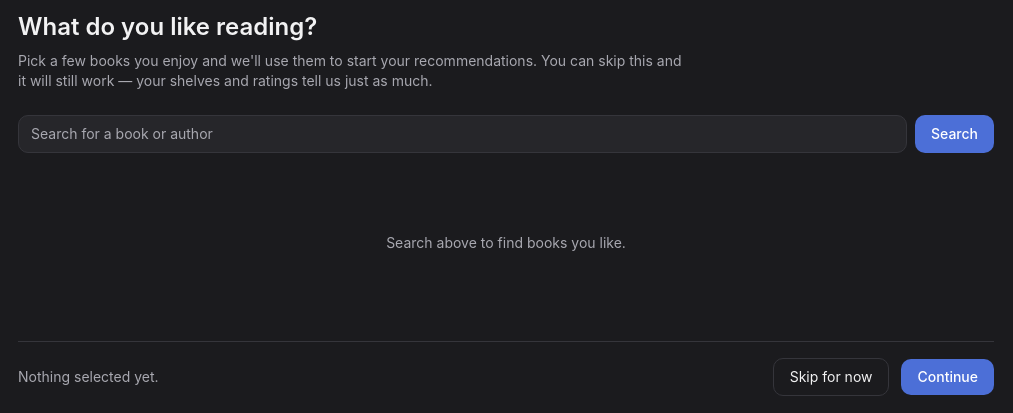
OnboardingPage › reports an empty result set
In the search field named "Search for books or authors": (462, 134) [18,115,907,153], type "nothingmatchesthis"
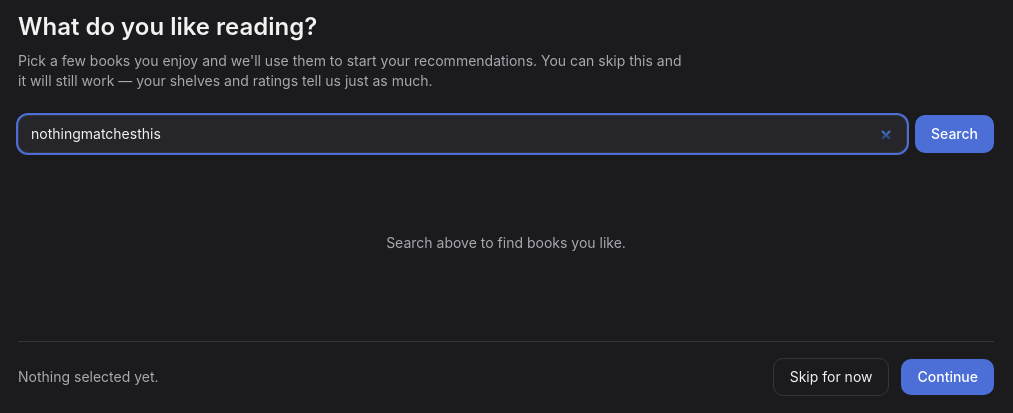
Click the button "Search": (954, 134) [915,115,994,153]
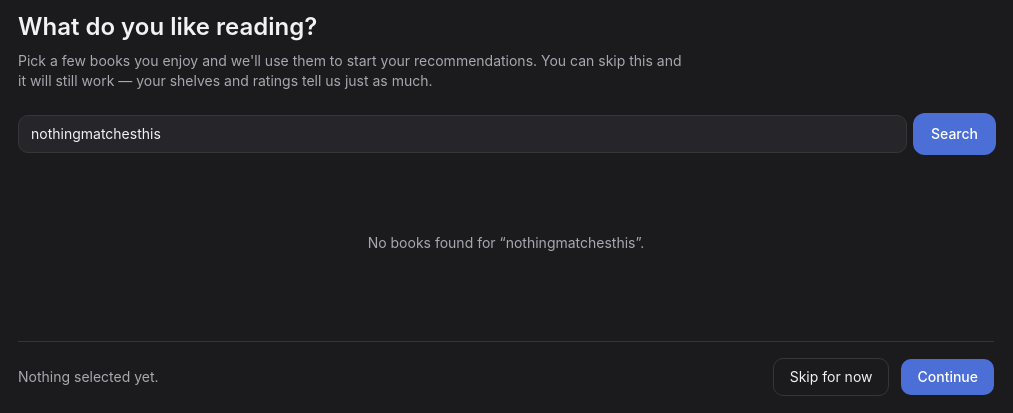
Expected: the text "No books found for “nothingmatchesthis”." is shown, [368,234,644,251]
